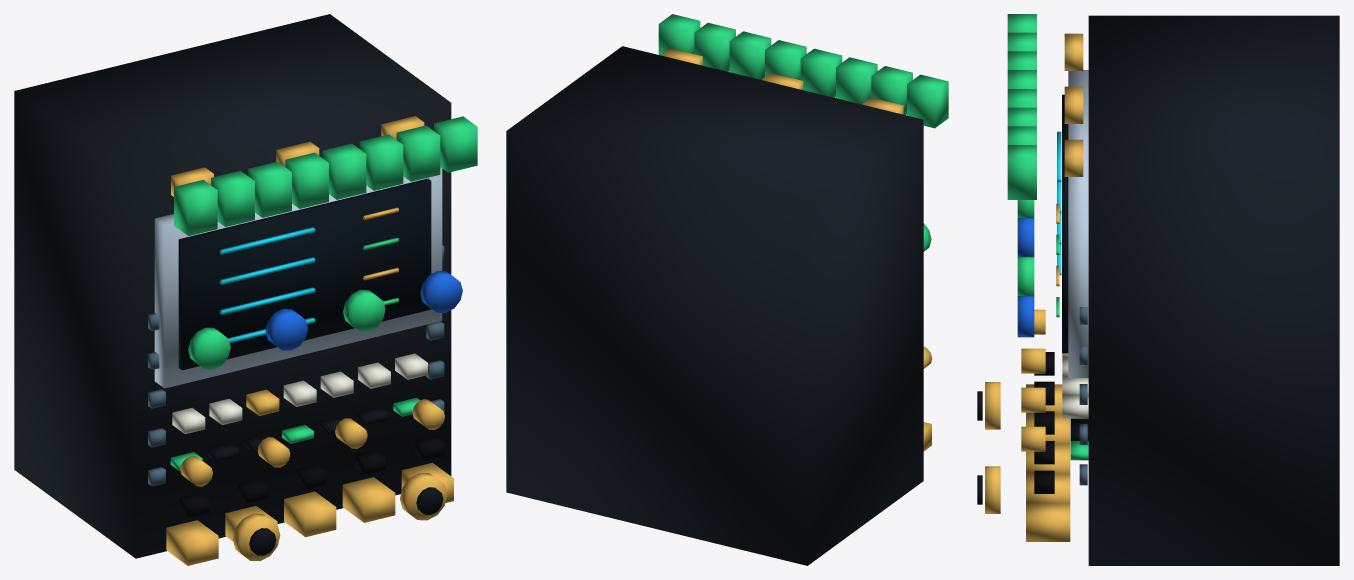
The model's file is 99_L93_Level93MissionSuccessConsole.fbx.
3 renders of one model, left to right at view 1: azimuth 30°, elevation 25°; view 2: azimuth 150°, elevation 25°; view 3: azimuth 270°, elevation 25°, orthographic. The views are drawn at different scales.
Parts seen in each view (by area): view 1: L92_Level93MissionSuccessConsole_Part_0000, L92_Level93MissionSuccessConsole_Part_0002, L92_Level93MissionSuccessConsole_Part_0012, L92_Level93MissionSuccessConsole_Part_0004, L92_Level93MissionSuccessConsole_Part_0001, L92_Level93MissionSuccessConsole_Part_0006, L92_Level93MissionSuccessConsole_Part_0005, L92_Level93MissionSuccessConsole_Part_0009, L92_Level93MissionSuccessConsole_Part_0010, L92_Level93MissionSuccessConsole_Part_0008, L92_Level93MissionSuccessConsole_Part_0003, L92_Level93MissionSuccessConsole_Part_0007 (+4 smaller); view 2: L92_Level93MissionSuccessConsole_Part_0000, L92_Level93MissionSuccessConsole_Part_0012, L92_Level93MissionSuccessConsole_Part_0004; view 3: L92_Level93MissionSuccessConsole_Part_0000, L92_Level93MissionSuccessConsole_Part_0004, L92_Level93MissionSuccessConsole_Part_0012, L92_Level93MissionSuccessConsole_Part_0001, L92_Level93MissionSuccessConsole_Part_0009, L92_Level93MissionSuccessConsole_Part_0002, L92_Level93MissionSuccessConsole_Part_0005, L92_Level93MissionSuccessConsole_Part_0010, L92_Level93MissionSuccessConsole_Part_0006, L92_Level93MissionSuccessConsole_Part_0008, L92_Level93MissionSuccessConsole_Part_0013, L92_Level93MissionSuccessConsole_Part_0015 (+1 smaller).
Boxes of the visible parts, x1,y1,x2,y2 form: L92_Level93MissionSuccessConsole_Part_0000: (14,14,451,558); L92_Level93MissionSuccessConsole_Part_0002: (178,178,431,370); L92_Level93MissionSuccessConsole_Part_0012: (174,116,477,235); L92_Level93MissionSuccessConsole_Part_0004: (166,116,453,565); L92_Level93MissionSuccessConsole_Part_0001: (154,167,442,388); L92_Level93MissionSuccessConsole_Part_0006: (172,353,427,434); L92_Level93MissionSuccessConsole_Part_0005: (170,237,420,470); L92_Level93MissionSuccessConsole_Part_0009: (179,435,444,517); L92_Level93MissionSuccessConsole_Part_0010: (265,271,462,350); L92_Level93MissionSuccessConsole_Part_0008: (148,245,444,486); L92_Level93MissionSuccessConsole_Part_0003: (220,227,315,343); L92_Level93MissionSuccessConsole_Part_0007: (207,406,388,461); L92_Level93MissionSuccessConsole_Part_0000: (506,46,923,565); L92_Level93MissionSuccessConsole_Part_0012: (658,14,948,128); L92_Level93MissionSuccessConsole_Part_0004: (662,48,932,451); L92_Level93MissionSuccessConsole_Part_0000: (1088,15,1339,565); L92_Level93MissionSuccessConsole_Part_0004: (1021,33,1083,541); L92_Level93MissionSuccessConsole_Part_0012: (1007,14,1036,199); L92_Level93MissionSuccessConsole_Part_0001: (1068,70,1088,377); L92_Level93MissionSuccessConsole_Part_0009: (1034,352,1054,493); L92_Level93MissionSuccessConsole_Part_0002: (1062,94,1068,353); L92_Level93MissionSuccessConsole_Part_0005: (1017,200,1088,460); L92_Level93MissionSuccessConsole_Part_0010: (1017,218,1034,337); L92_Level93MissionSuccessConsole_Part_0006: (1062,353,1088,418); L92_Level93MissionSuccessConsole_Part_0008: (1079,307,1087,485); L92_Level93MissionSuccessConsole_Part_0013: (985,382,1000,429); L92_Level93MissionSuccessConsole_Part_0015: (985,466,1000,513).
Bounding box in the file's own units: 102 × 120 × 98.2.
